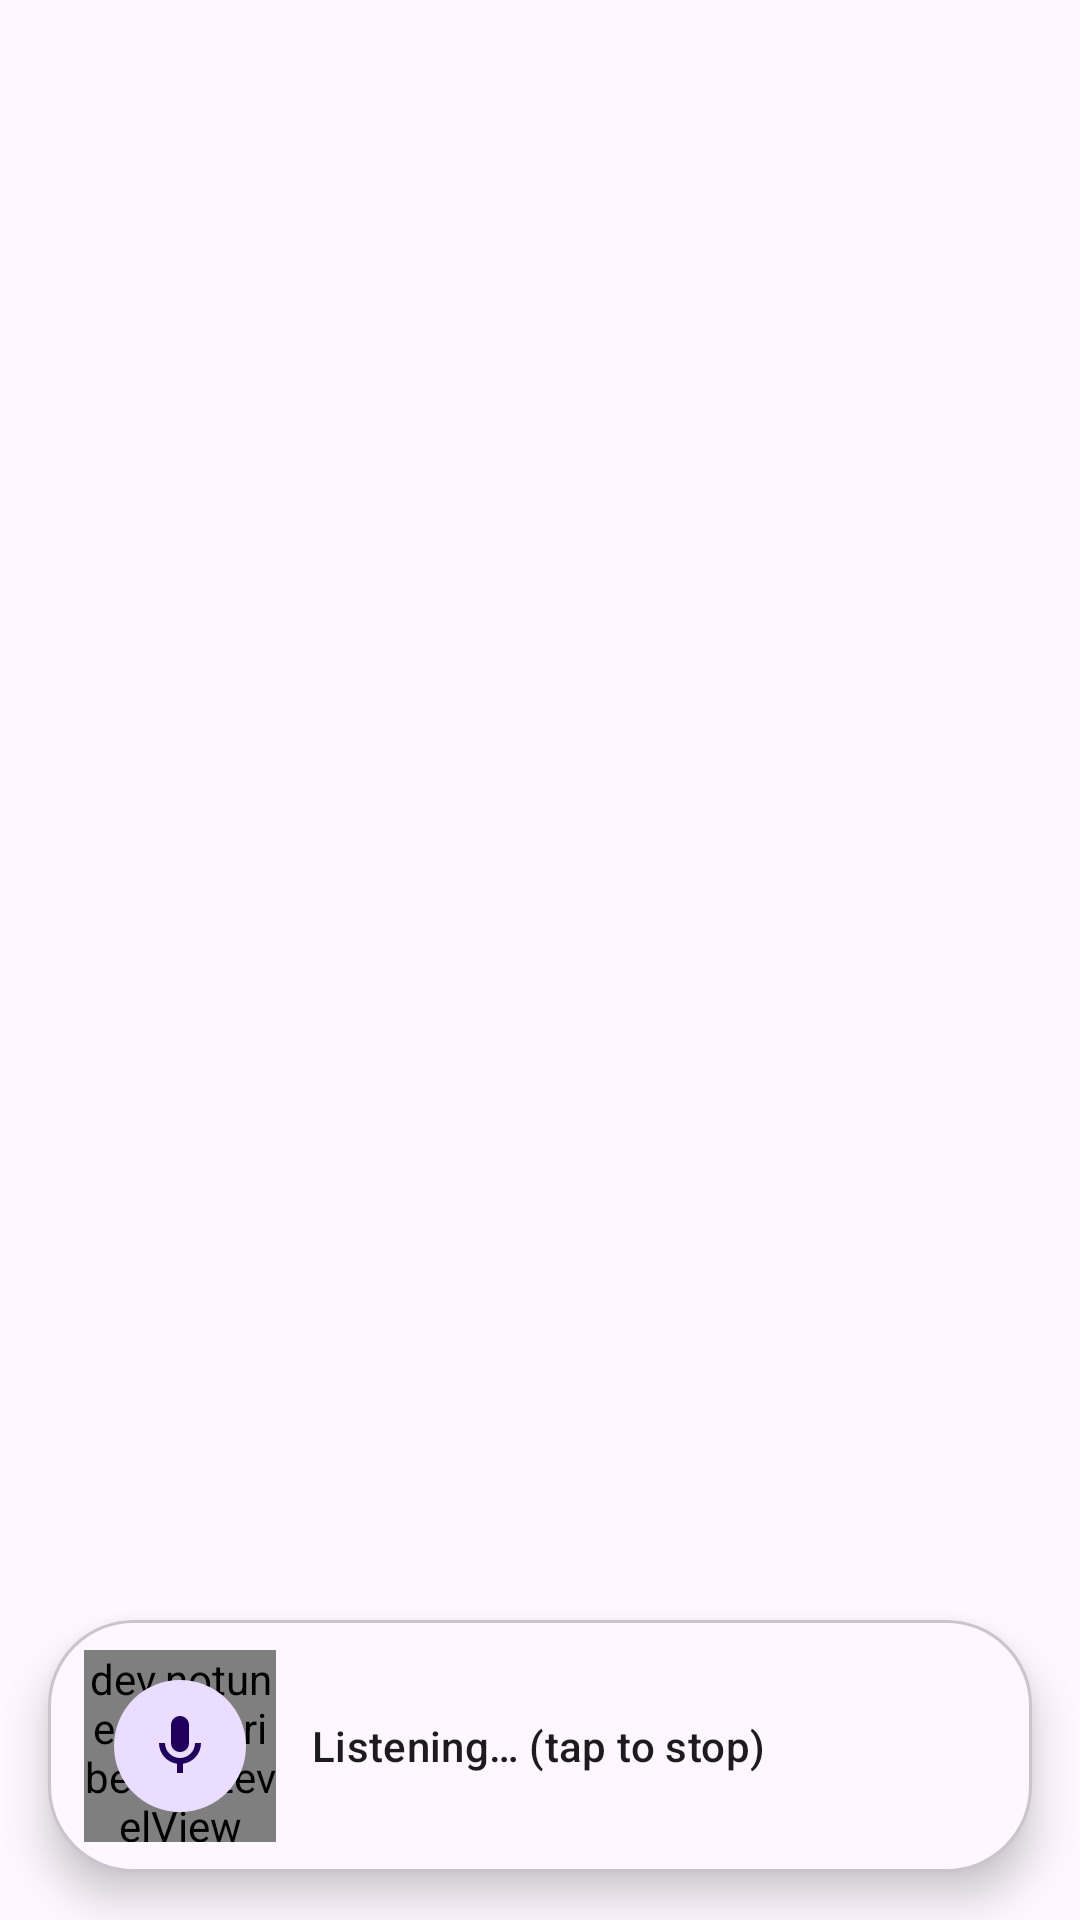

Icons on this 1080 × 1920 Android screen, each with the point to tap as point (x, y):
mic: point (180, 1744)
